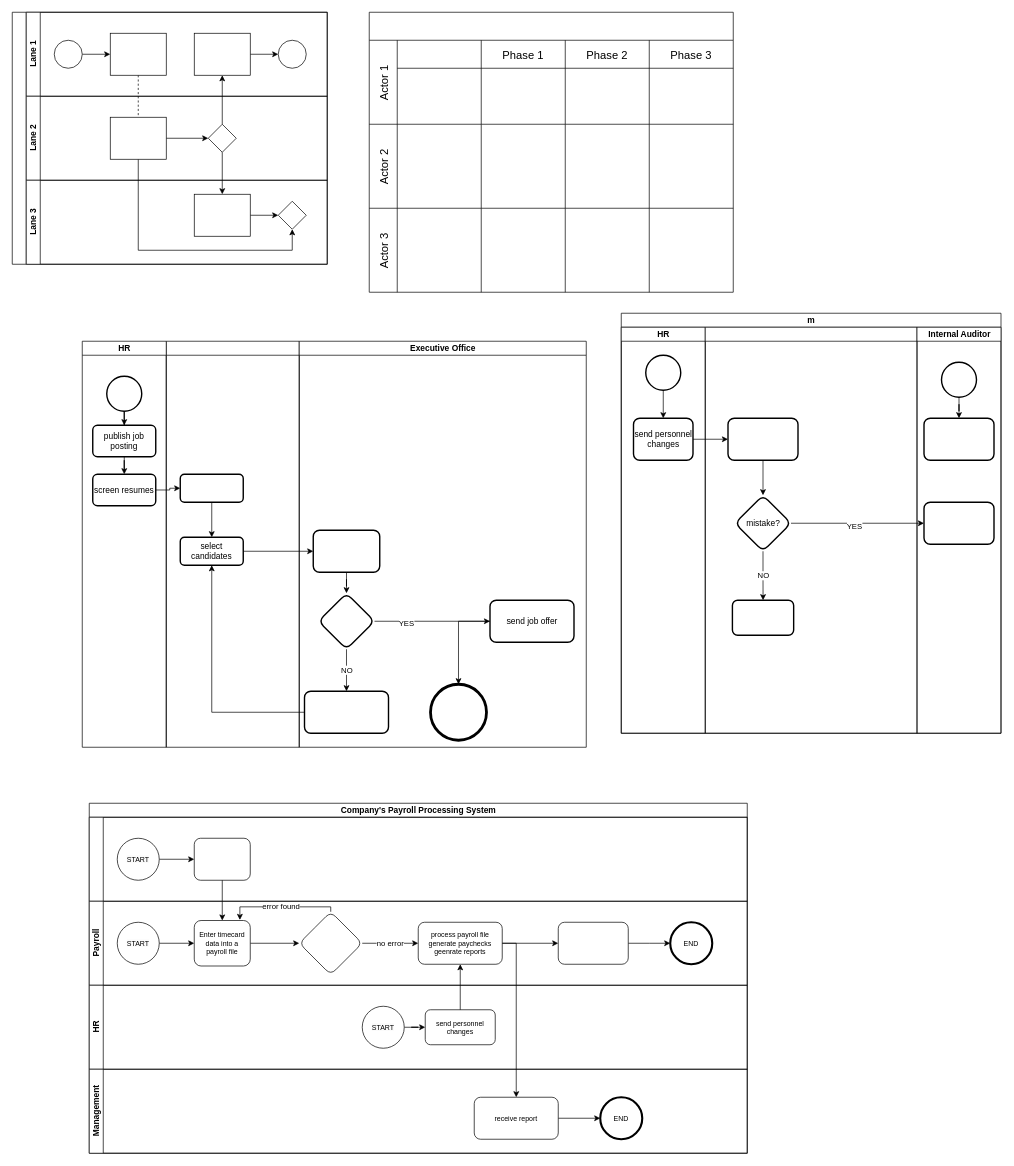
Some shapes in this 1014 by 1166 pixel diagram are drawn without their labels. The box of each missing label's shape, as (x1, y1, x2, y2) in pixels:
ask hiring manager for another candidates: (303, 690, 389, 734)
Check timecard data for error: (299, 911, 362, 975)
Cross-Functional Flowchart: (369, 12, 733, 292)
Employee: (89, 817, 747, 901)
enter data into payroll file: (727, 417, 798, 461)
Enter Timecard: (194, 838, 250, 880)
final interview by CEO: (312, 529, 380, 573)
interview qualified candidates: (179, 473, 244, 503)
pass interview: (317, 592, 375, 650)
Payroll Clerks: (705, 327, 917, 733)
Pool: (12, 12, 327, 264)
record time by hand: (923, 417, 994, 461)
Role Department: (166, 341, 299, 747)
send report to government: (558, 922, 628, 964)
